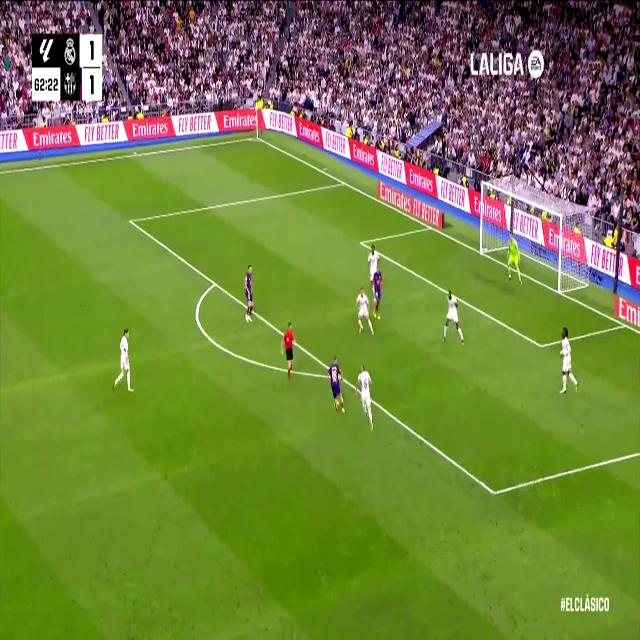bigarea_bottom_inner: (487, 475, 501, 508)
bigarea_top_outter: (340, 175, 347, 189)
corner: (254, 134, 260, 141)
smallarea_bottom_inner: (536, 335, 546, 356)
smallarea_top_inner: (127, 213, 134, 229)
top_arc_area_intersection: (211, 276, 219, 290)
